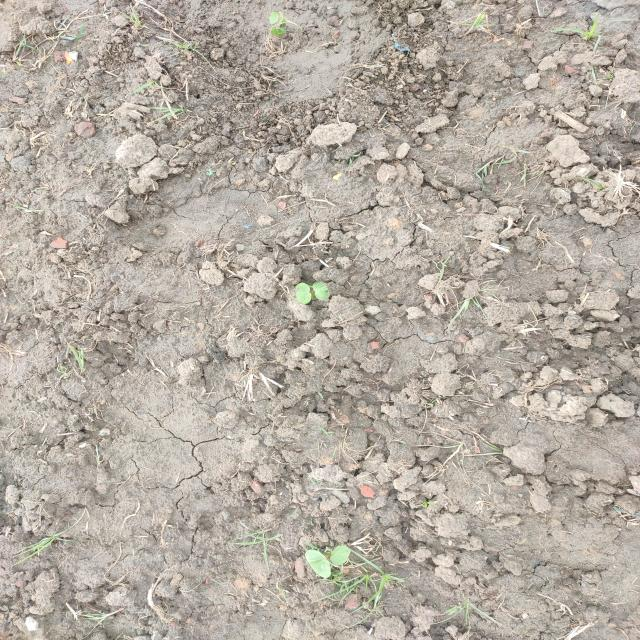seedling_s4: (305, 550, 331, 578), (330, 546, 351, 566), (296, 282, 312, 304), (312, 282, 330, 300), (270, 23, 286, 37), (269, 11, 278, 24)
